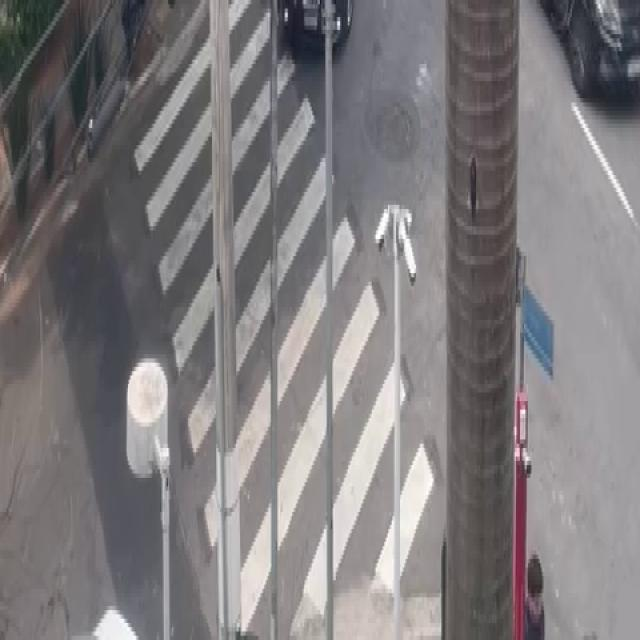car: (538, 0, 640, 145)
